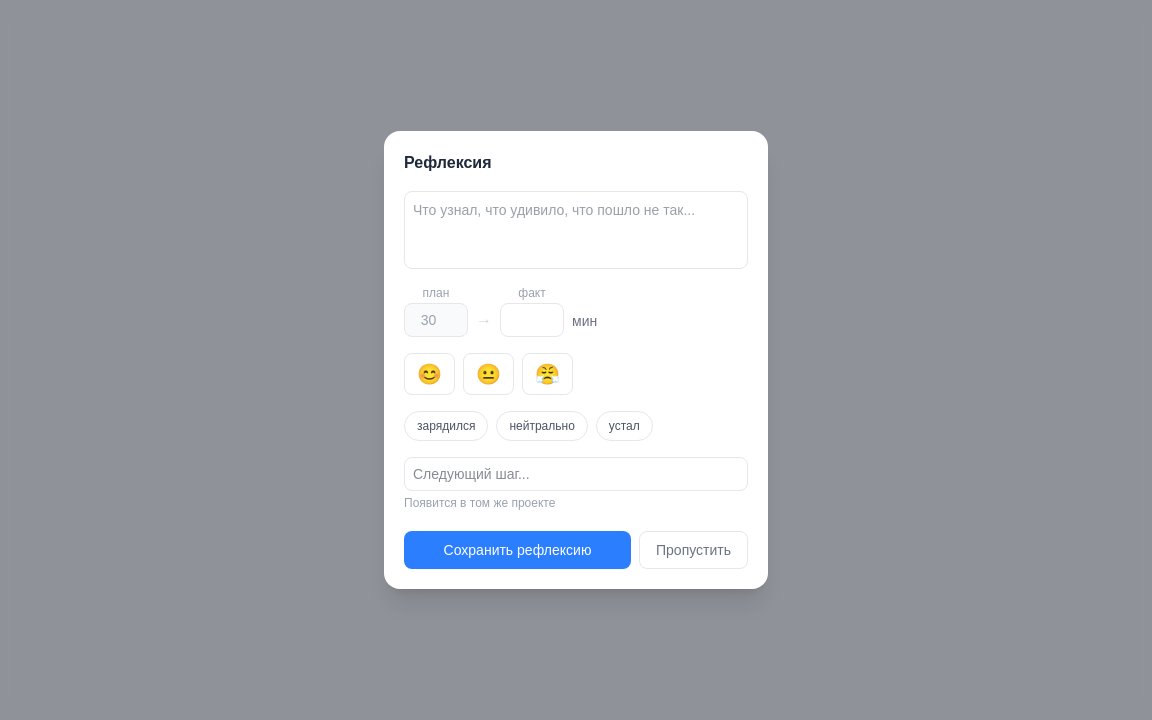
Test: ReflectionModal › shows green diff when actual < estimated
Type "25" into the number field named "факт мин". click: (532, 320)
box: [500,303,564,337]
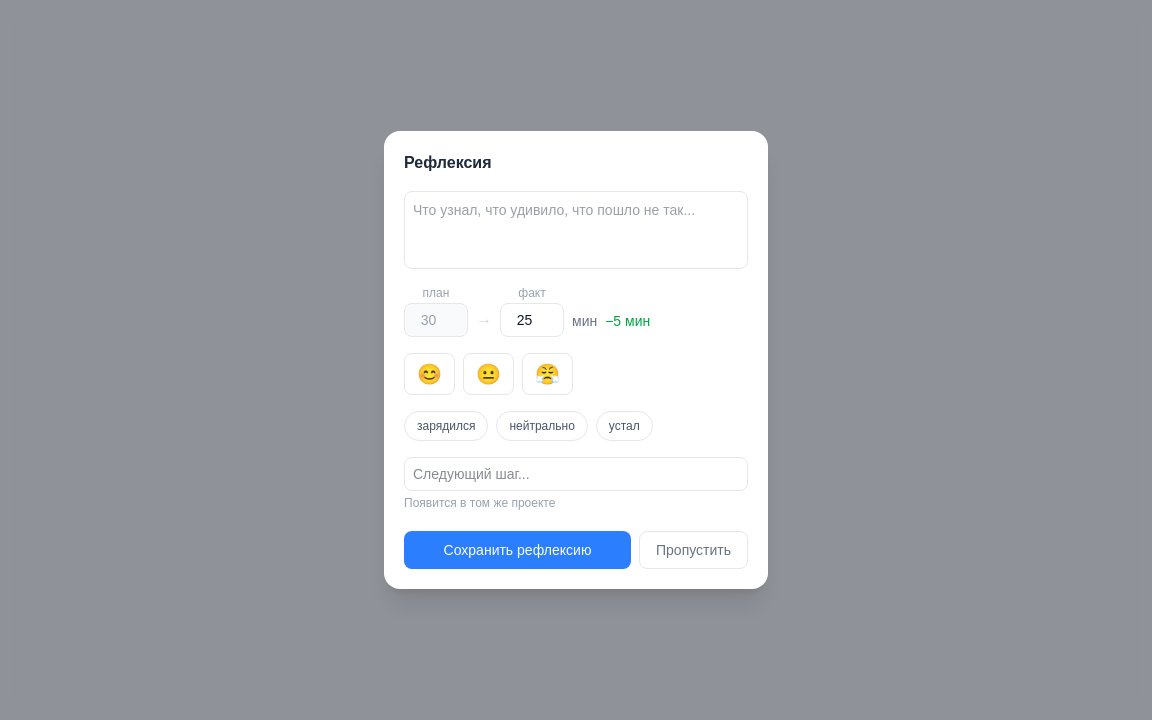
Result: the text "−5 мин" is shown at [605,311,650,331]
